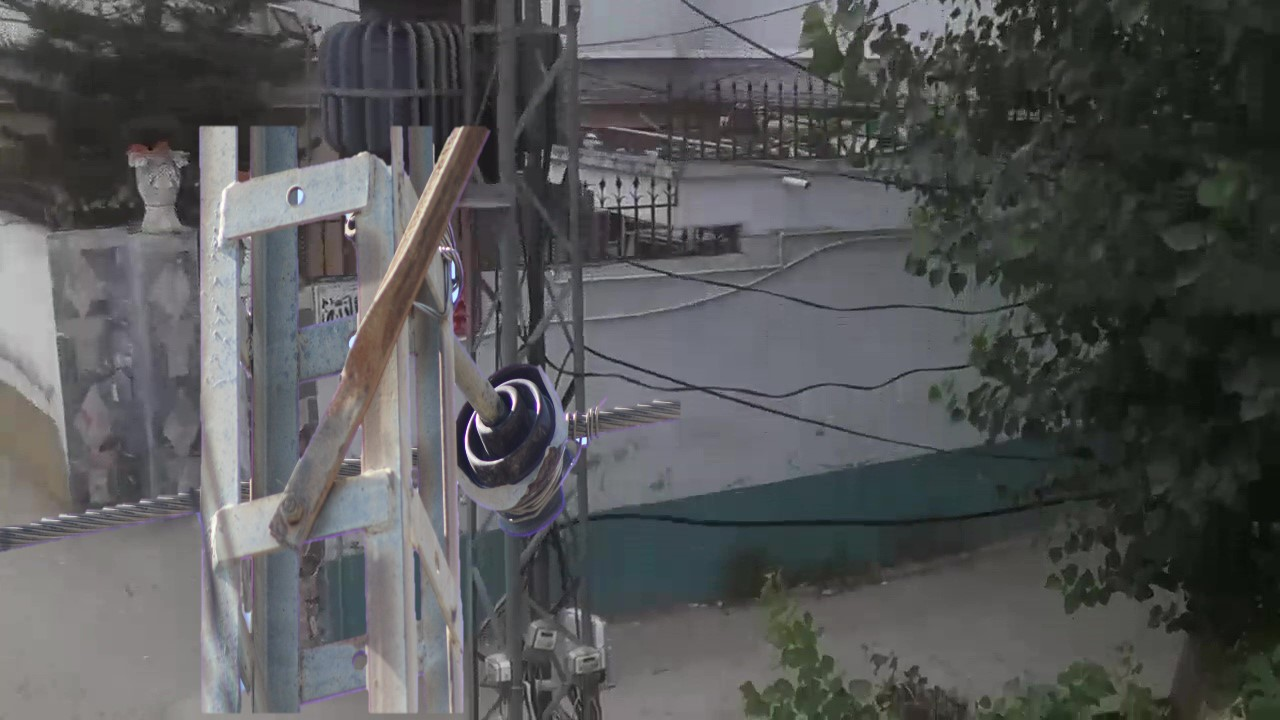defect_pin: (450, 359, 585, 542)
